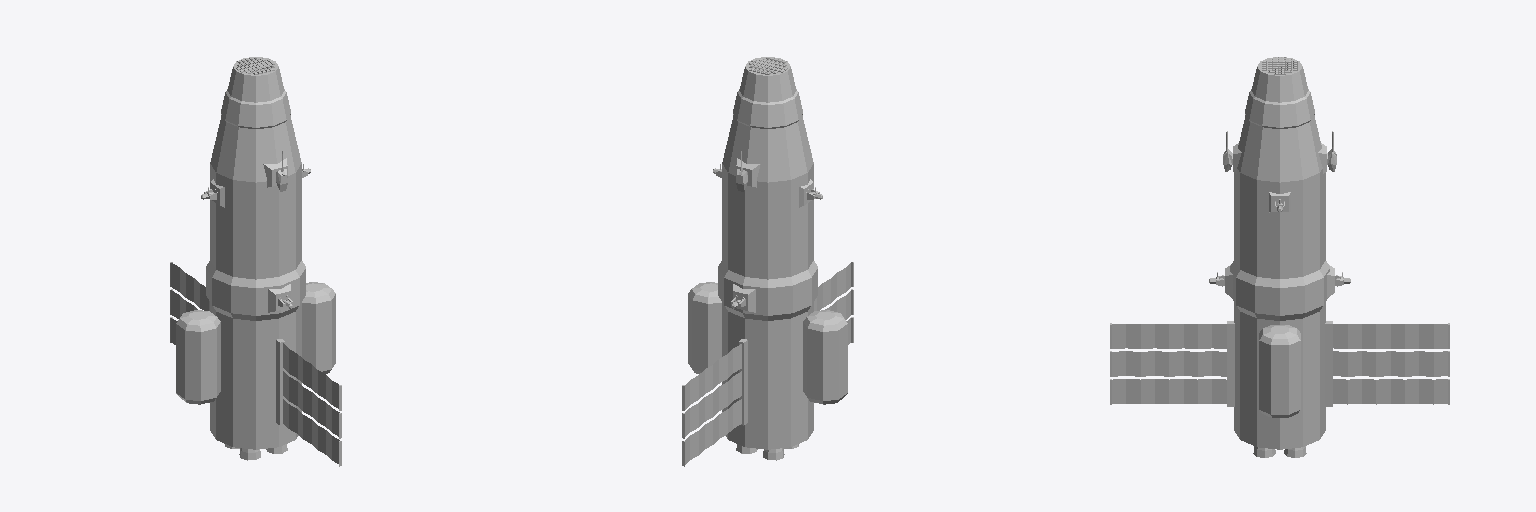
The model's file is Shipmodel WIP.obj.
The picture shows the model from 3 angles: view 1: azimuth 30°, elevation 25°; view 2: azimuth 150°, elevation 25°; view 3: azimuth 270°, elevation 25°; orthographic projection.
Visible parts, largest first — view 1: Cylinder, Cylinder.003, Cylinder.004, Plane, Plane.001, Plane.002, Plane.005, Cube; view 2: Cylinder, Cylinder.003, Cylinder.004, Plane.003, Plane.004, Plane.005, Plane.002, Cube; view 3: Cylinder, Cylinder.004, Plane.005, Plane, Plane.002, Plane.001, Plane.003, Plane.004, Cube.
Part boxes in pixels (bbox=[...]): Cylinder: bbox=[206, 57, 305, 449]; Cylinder.003: bbox=[176, 310, 220, 404]; Cylinder.004: bbox=[302, 282, 335, 373]; Plane: bbox=[283, 399, 339, 463]; Plane.001: bbox=[283, 371, 339, 436]; Plane.002: bbox=[283, 343, 338, 408]; Plane.005: bbox=[171, 263, 209, 310]; Cube: bbox=[276, 339, 284, 425]; Cylinder: bbox=[718, 57, 817, 449]; Cylinder.003: bbox=[803, 310, 847, 404]; Cylinder.004: bbox=[688, 282, 721, 373]; Plane.003: bbox=[685, 399, 741, 464]; Plane.004: bbox=[685, 371, 741, 436]; Plane.005: bbox=[685, 344, 741, 409]; Plane.002: bbox=[814, 263, 850, 310]; Cube: bbox=[739, 339, 747, 425]; Cylinder: bbox=[1230, 57, 1329, 449]; Cylinder.004: bbox=[1259, 325, 1300, 417]; Plane.005: bbox=[1333, 324, 1447, 348]; Plane: bbox=[1112, 379, 1226, 403]; Plane.002: bbox=[1112, 324, 1226, 348]; Plane.001: bbox=[1112, 351, 1226, 376]; Plane.003: bbox=[1333, 379, 1447, 404]; Plane.004: bbox=[1333, 351, 1447, 376]; Cube: bbox=[1227, 321, 1332, 406].
Size of the model in its own units: 11.4 by 27.61 by 22.2.